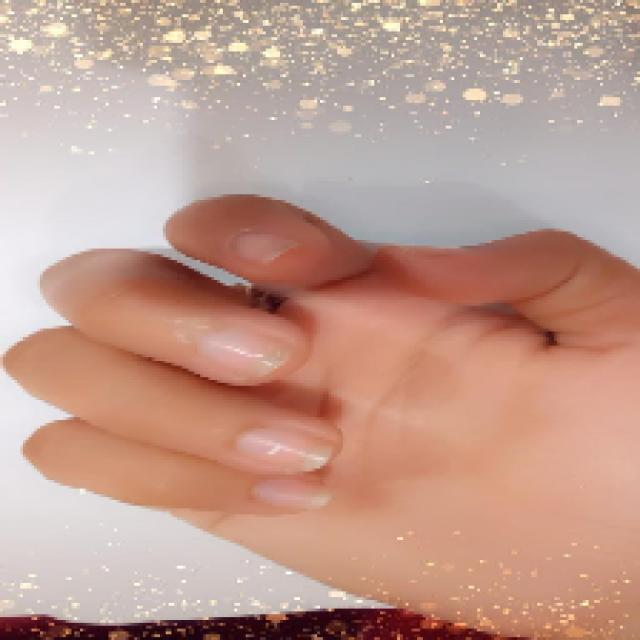Nail: (198, 329, 292, 384), (236, 428, 331, 471), (251, 476, 331, 510), (232, 232, 298, 264), (401, 247, 480, 255)
